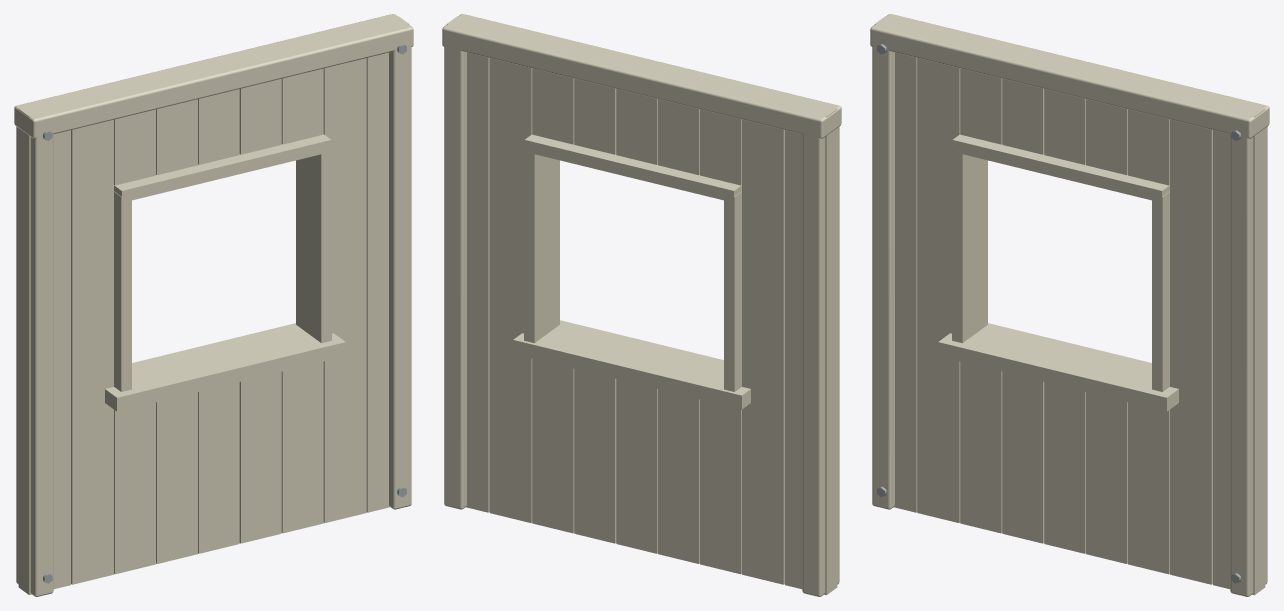
File: suburban-outbreak-interiors-room-window-wall-bd99692b__19871.glb
3 renders of one model, left to right at view 1: azimuth 30°, elevation 25°; view 2: azimuth 150°, elevation 25°; view 3: azimuth 330°, elevation 25°, orthographic.
Visible parts, largest first — view 1: room-window-wall; view 2: room-window-wall; view 3: room-window-wall.
Boxes of the visible parts, bbox=[...] form: room-window-wall: bbox=[14, 14, 413, 596]; room-window-wall: bbox=[442, 14, 841, 596]; room-window-wall: bbox=[870, 14, 1269, 596].
Bounding box in the file's own units: 2 × 2.4 × 0.29.
